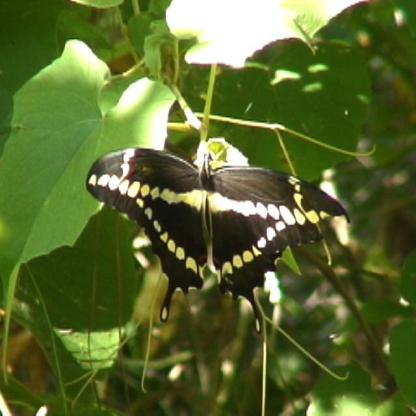Giant Swallowtail: (57, 95, 353, 324)
